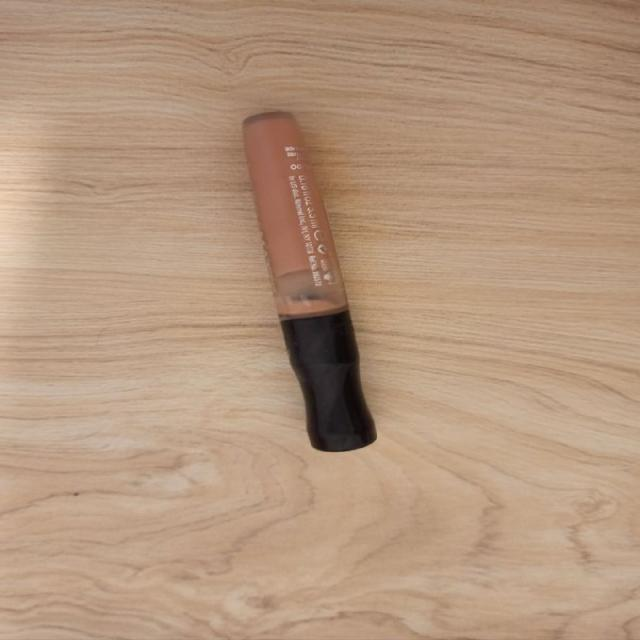lipstick: (241, 110, 377, 452)
